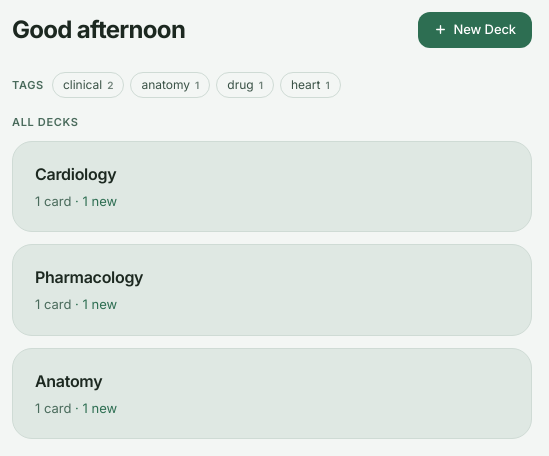
Test: LibraryView tag filter › clears filter when clear button clicked
Click the button with test id "tag-filter-heart" at coordinates (310, 85), box x1=280 y1=72 x2=341 y2=98
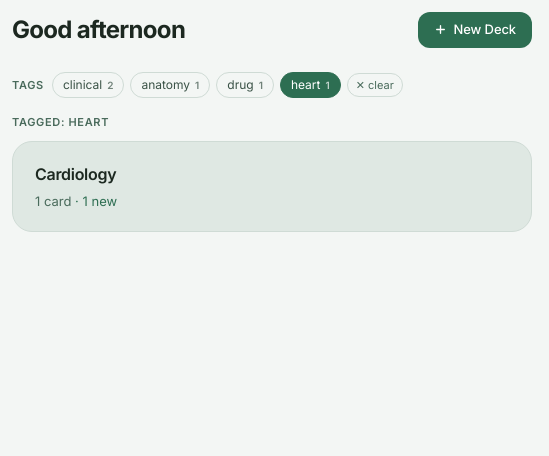
Expected: the button with test id "tag-filter-clear" is shown
Click the button with test id "tag-filter-clear" at coordinates (375, 85), box x1=347 y1=73 x2=403 y2=97
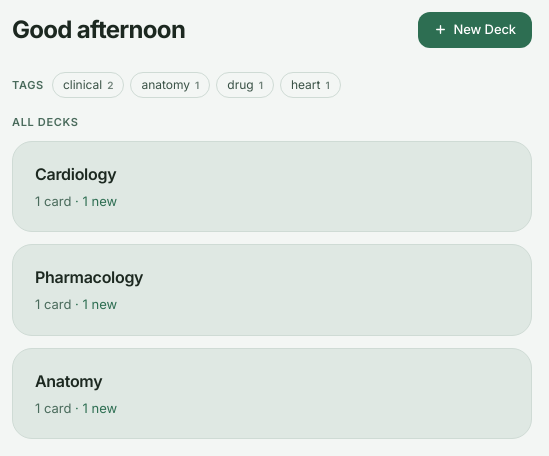
Expected: the text "Cardiology" is shown, x1=35 y1=162 x2=116 y2=186
Expected: the text "Pharmacology" is shown, x1=35 y1=265 x2=143 y2=289
Expected: the text "Anatomy" is shown, x1=35 y1=368 x2=102 y2=392
